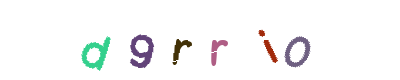0: (181, 0, 261, 80)
9: (160, 0, 240, 80)
D: (56, 0, 136, 80)
I: (181, 0, 261, 80)
R: (161, 0, 241, 80), (167, 0, 247, 80)
